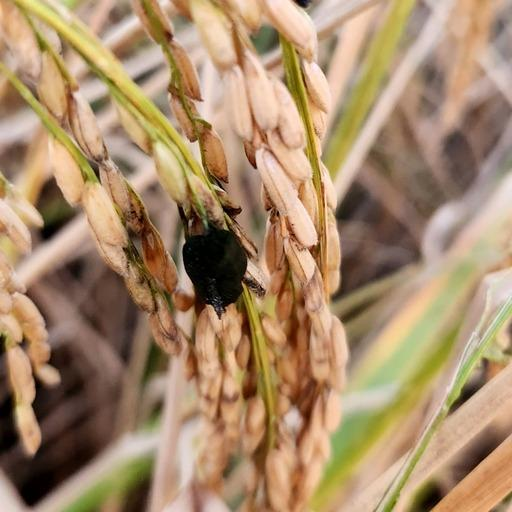Leaf_Scald: (168, 212, 261, 308)
